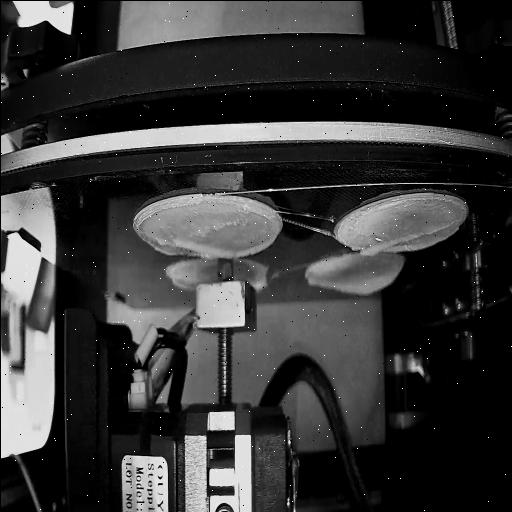over_extrusion: (358, 222, 448, 258), (306, 264, 400, 298), (152, 235, 278, 258), (246, 206, 272, 223), (254, 270, 272, 288), (172, 276, 194, 290)
